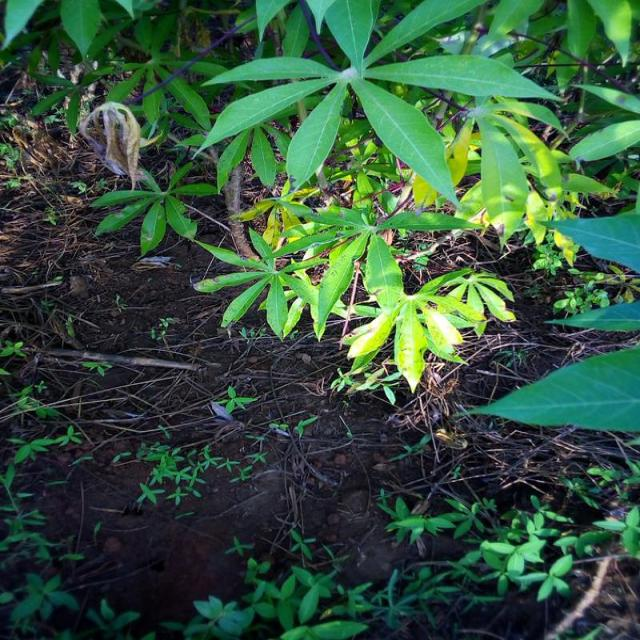cassava leaf: (452, 344, 639, 434), (351, 76, 460, 209)
